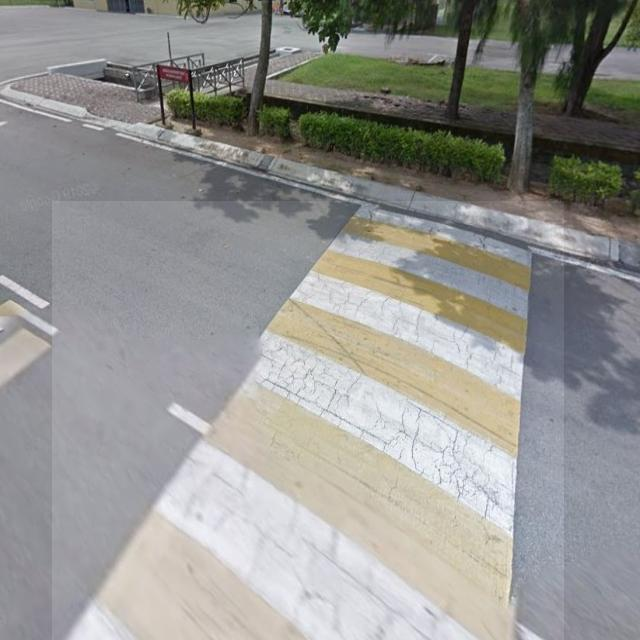speed-bump: (52, 201, 564, 640)
